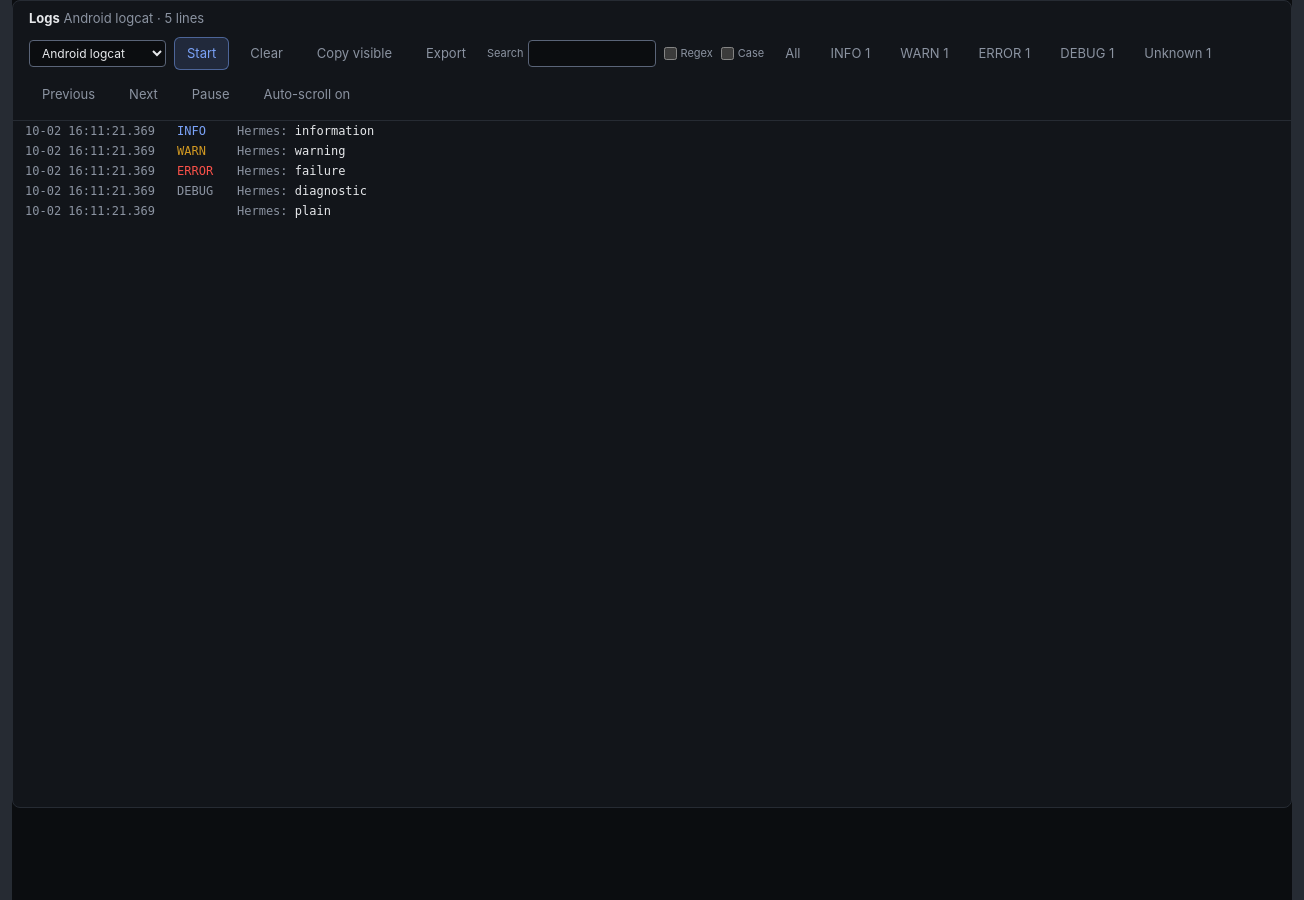
Scenario: LogsView › filters by level with counts and restores all levels
The width and height of the screenshot is (1304, 900).
Check: the button "WARN 1" is shown, box [887,36,962,70]
Check: the button "ERROR 1" is shown, box [966,36,1043,70]
Click the button "INFO 1" at (850, 53), box [818,36,883,70]
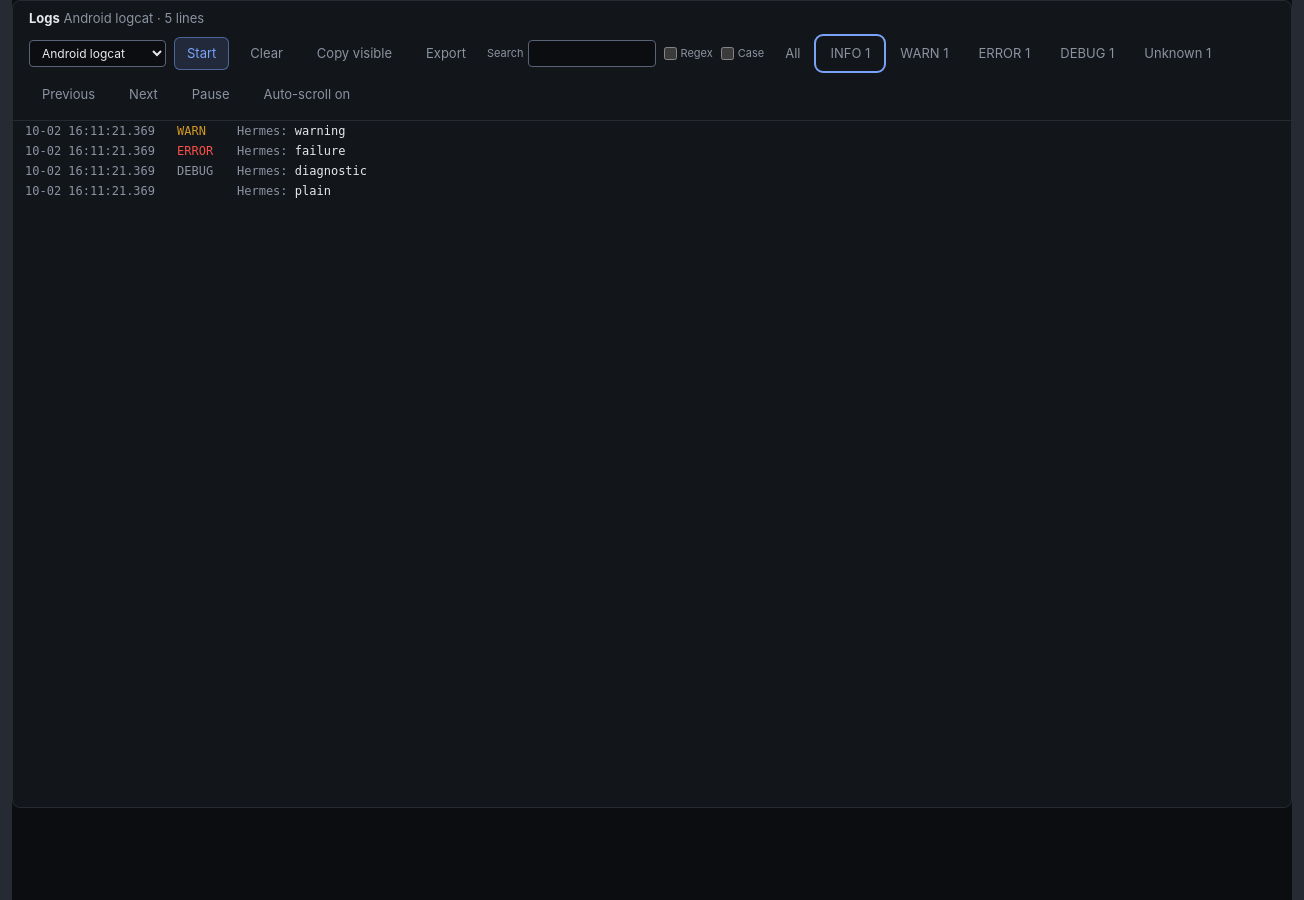
Click the button "ERROR 1" at (1004, 53), box [966,36,1043,70]
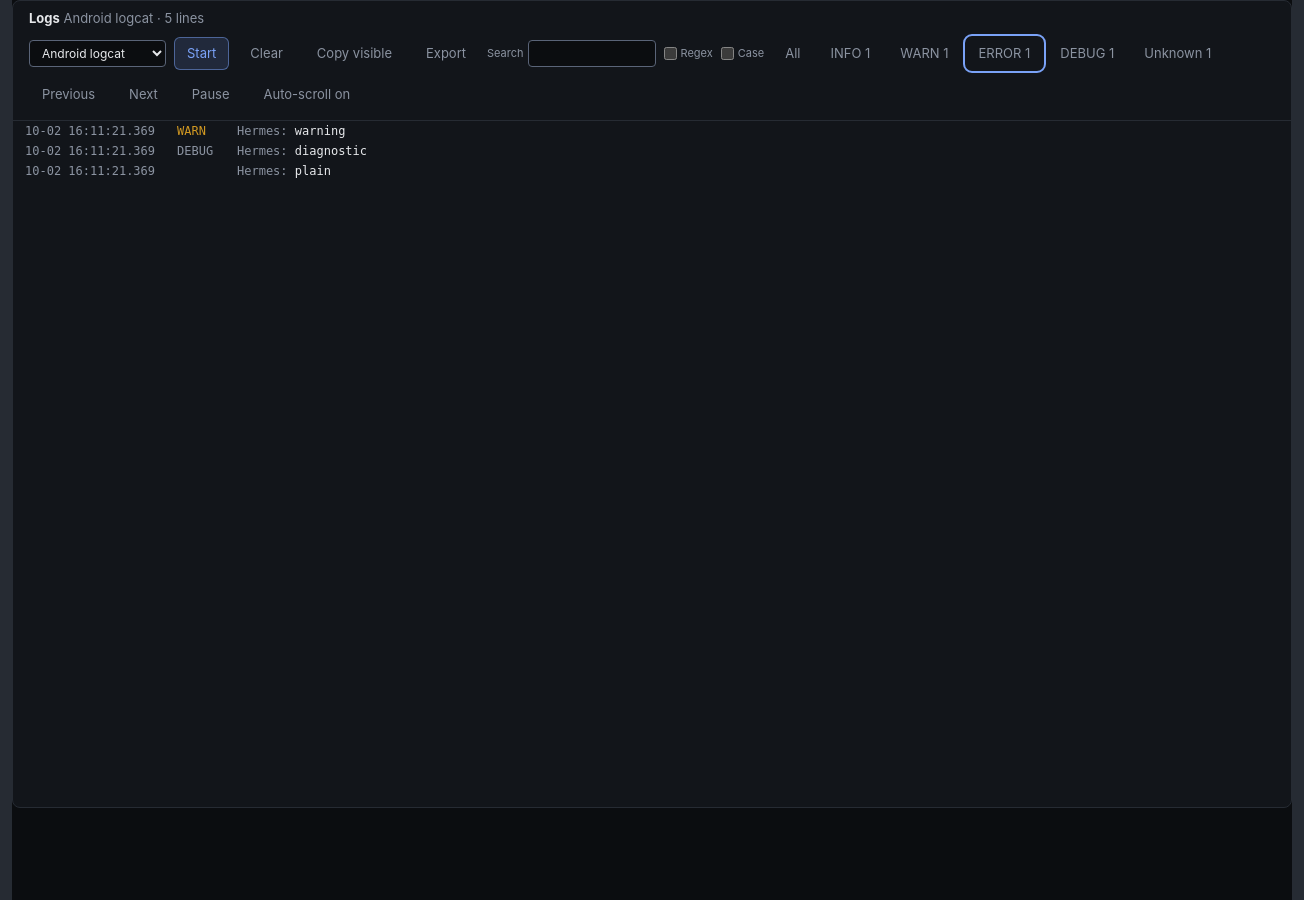
Click the button "DEBUG 1" at (1087, 53), box [1047,36,1127,70]
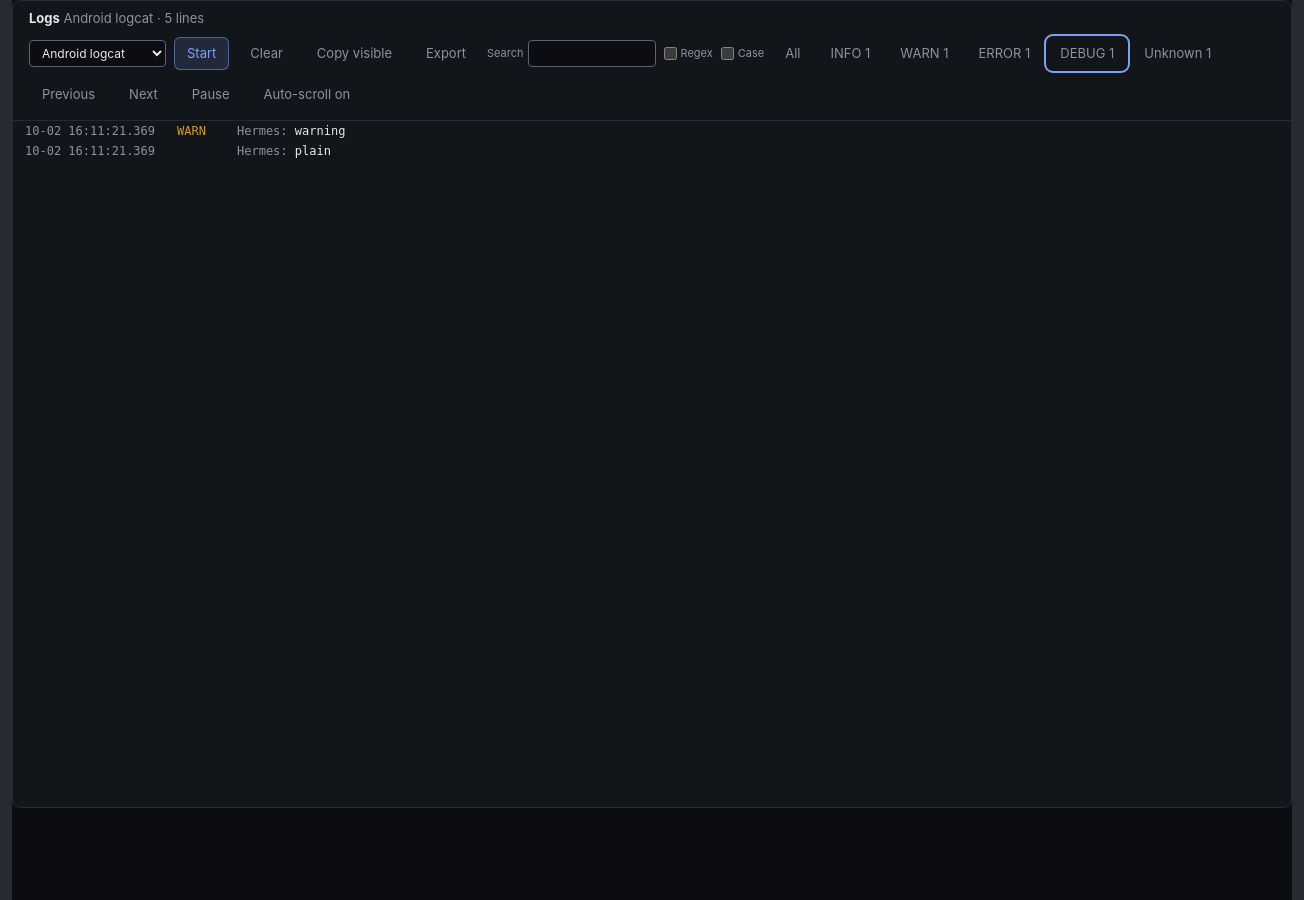
Click the button "Unknown 1" at (1178, 53), box [1131,36,1224,70]
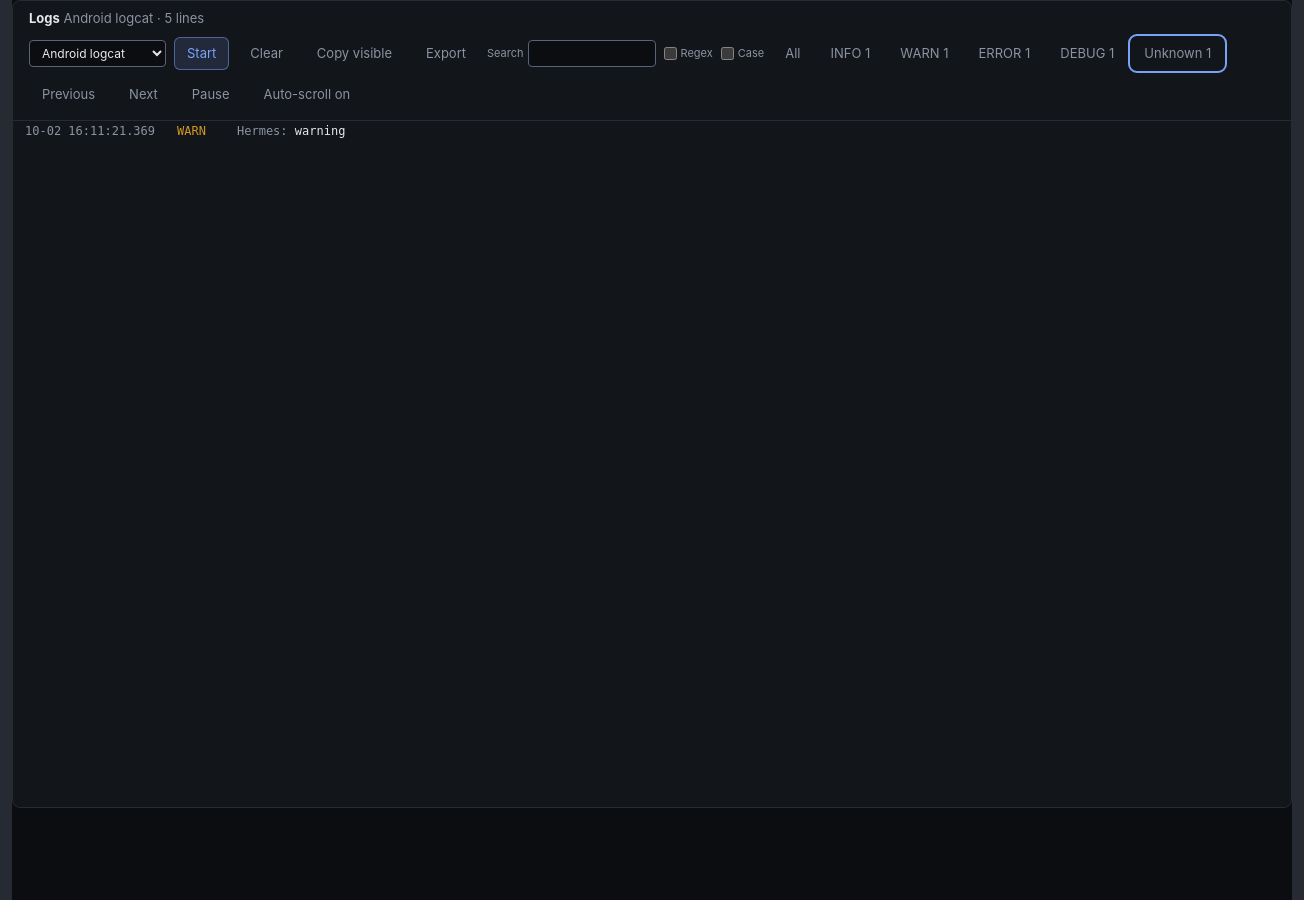
Check: the text "warning" is shown, box [295,124,345,138]
Check: the button "information" is not shown
Click the button "All" at (793, 53), box [772,36,814,70]
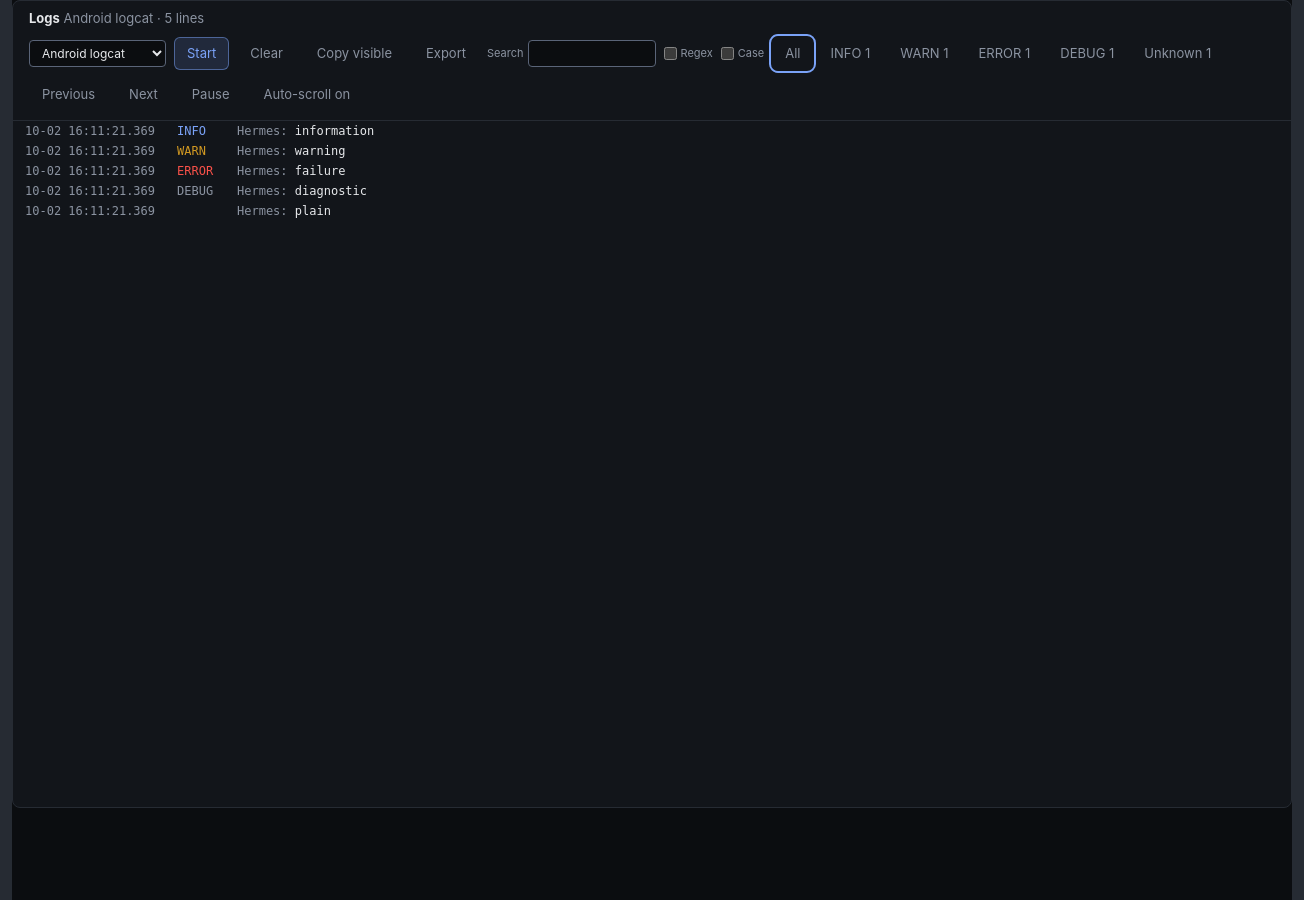
Check: the text "information" is shown, box [295,124,374,138]
Check: the text "failure" is shown, box [295,164,345,178]
